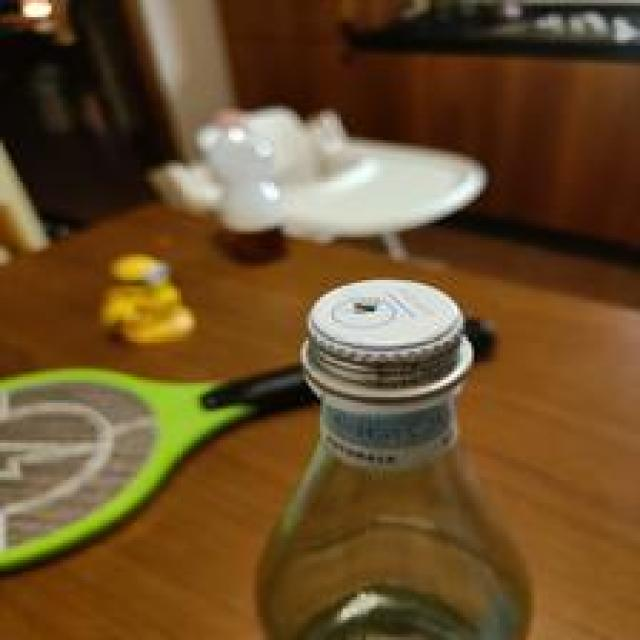Aedes albopictus: (0, 280, 497, 577)
